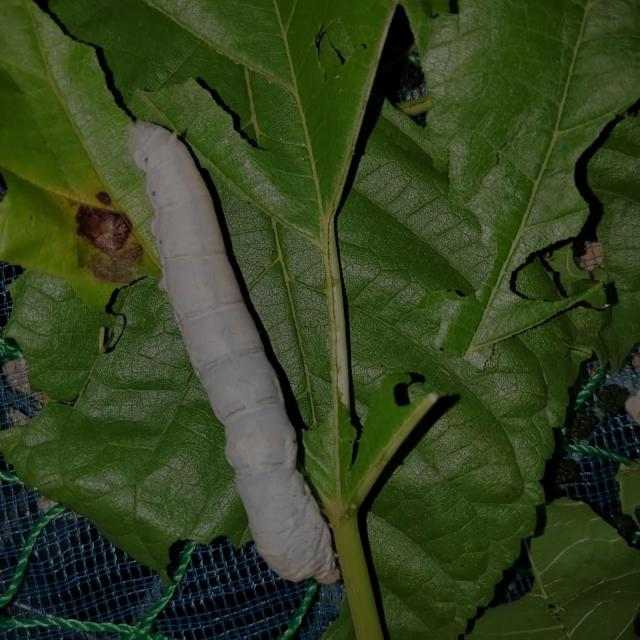Healthy: (116, 111, 354, 590)
